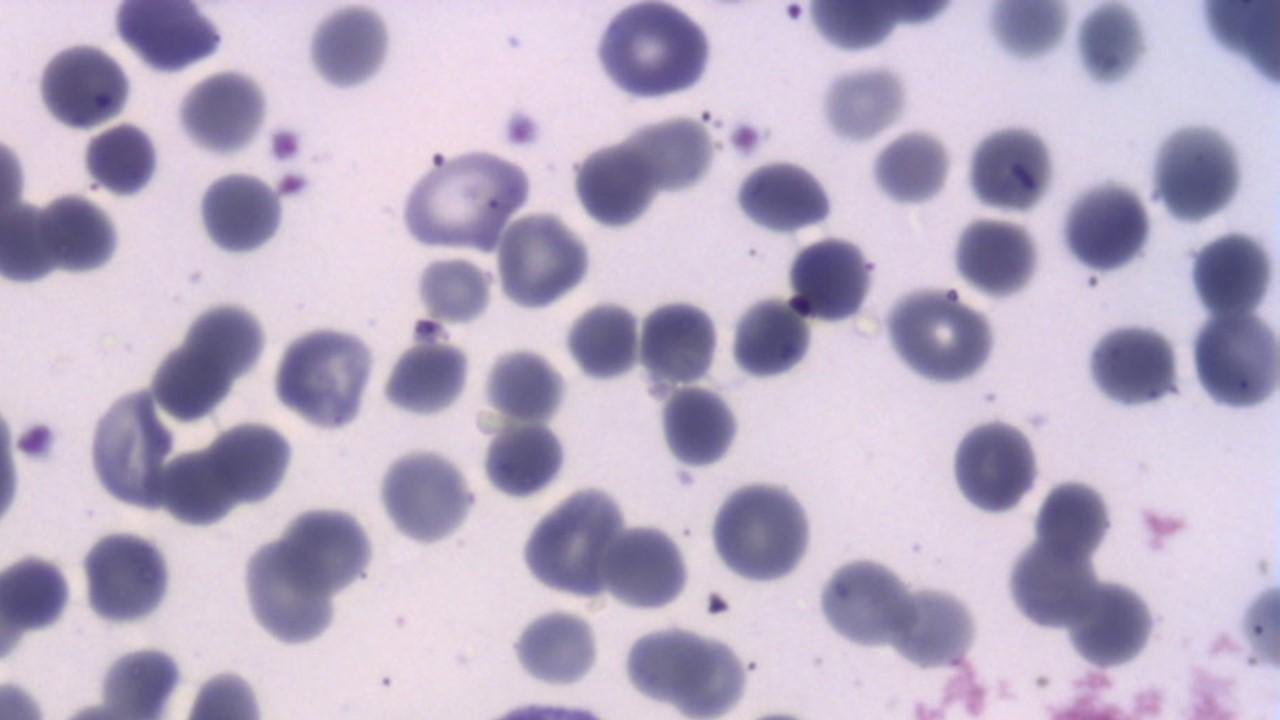Platelets: (706, 478, 818, 587), (272, 324, 379, 434), (1145, 117, 1251, 224), (79, 526, 177, 628), (944, 416, 1040, 520), (1079, 320, 1183, 413), (1057, 176, 1153, 274), (174, 66, 271, 160), (964, 121, 1057, 218), (784, 234, 878, 326), (302, 4, 398, 93), (730, 157, 836, 236), (194, 166, 284, 258), (949, 213, 1041, 302), (508, 603, 602, 688), (378, 337, 471, 422), (724, 294, 814, 381), (35, 194, 126, 280), (816, 61, 908, 143), (1071, 0, 1151, 93), (478, 420, 567, 502), (658, 383, 740, 472), (480, 344, 568, 424), (866, 129, 952, 208), (561, 299, 640, 383), (78, 121, 162, 200), (0, 548, 74, 634), (980, 2, 1072, 67), (414, 256, 496, 324), (0, 393, 28, 536), (12, 416, 64, 466), (496, 104, 544, 150), (265, 121, 305, 166), (726, 116, 766, 157), (274, 167, 313, 201)
RBC: (397, 146, 532, 253), (591, 0, 713, 104), (85, 380, 177, 514), (269, 319, 376, 432), (706, 477, 814, 587), (883, 285, 997, 387), (372, 445, 479, 548), (814, 552, 918, 652), (494, 208, 592, 312), (1187, 306, 1279, 416), (31, 39, 134, 132), (108, 0, 229, 76), (962, 121, 1056, 217), (569, 135, 658, 232), (604, 518, 692, 616), (175, 67, 269, 158), (731, 156, 835, 236), (636, 294, 720, 387), (378, 338, 472, 419), (657, 384, 741, 471), (868, 126, 954, 208), (564, 295, 642, 385), (480, 345, 570, 422), (414, 254, 496, 324), (1, 197, 60, 286)
WBC: (236, 0, 1280, 720), (588, 0, 726, 106), (612, 620, 754, 714), (269, 317, 385, 429), (715, 154, 866, 235), (706, 475, 815, 585), (372, 444, 485, 544), (32, 38, 137, 132), (110, 0, 231, 74), (193, 167, 288, 256), (728, 292, 813, 383)
